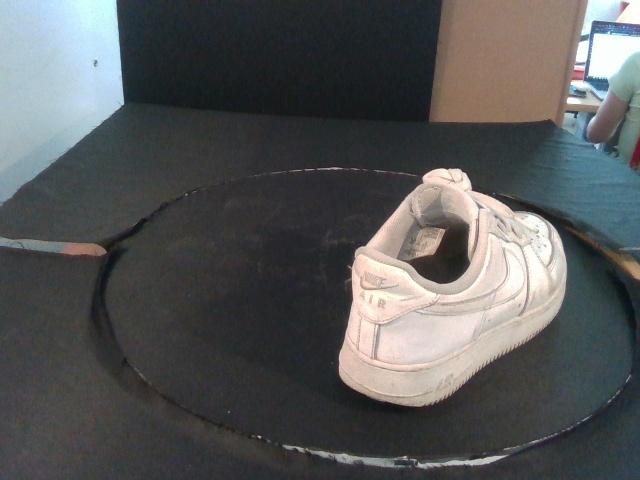shoe: (338, 180, 568, 409)
